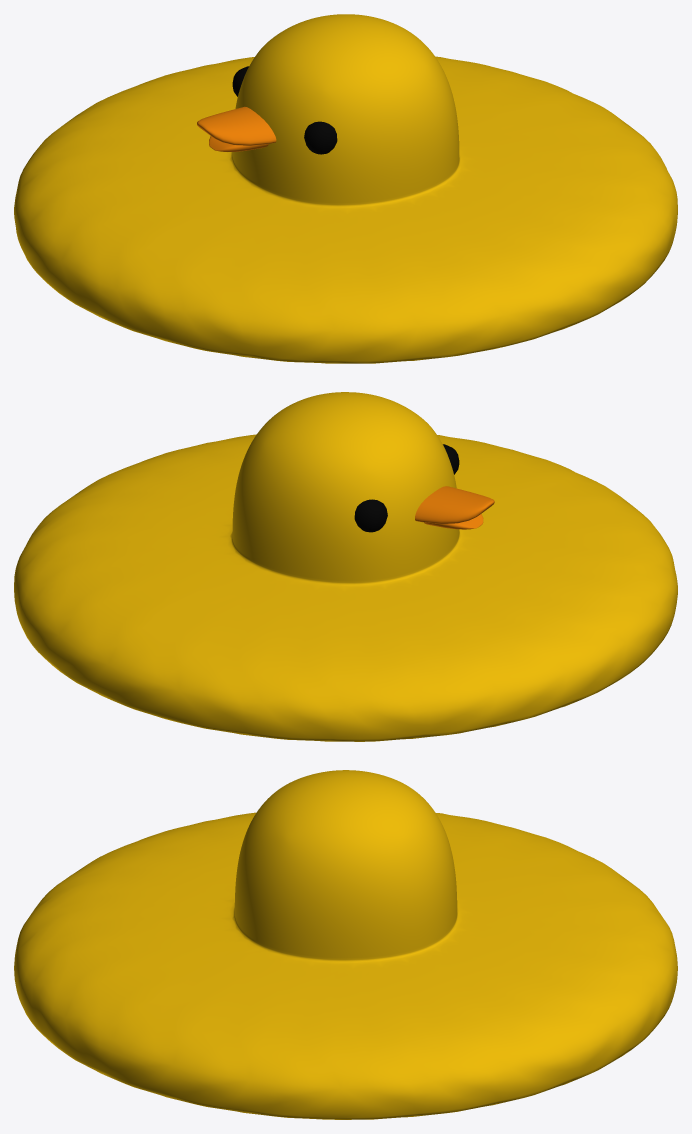
The model's file is Frisbee_RubberDuck.fbx.
3 views of the same model, one above another, from view 1: azimuth 30°, elevation 25°; view 2: azimuth 150°, elevation 25°; view 3: azimuth 270°, elevation 25° (orthographic).
Parts seen in each view (by area): view 1: Cube.001; view 2: Cube.001; view 3: Cube.001.
Part boxes in pixels (x1,y1,x2,y2): Cube.001: (14,14,677,363); Cube.001: (14,392,677,741); Cube.001: (14,770,677,1119).
Size of the model in its own units: 27.73 by 9.1 by 27.73.
